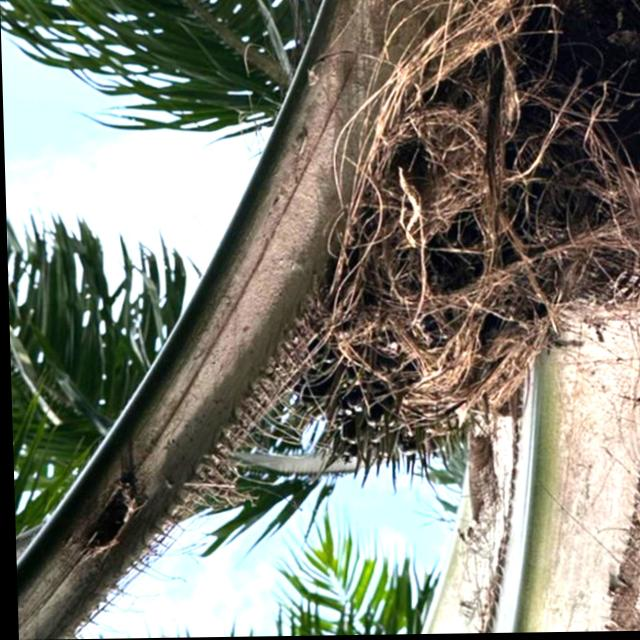unripe: (261, 191, 565, 503)
